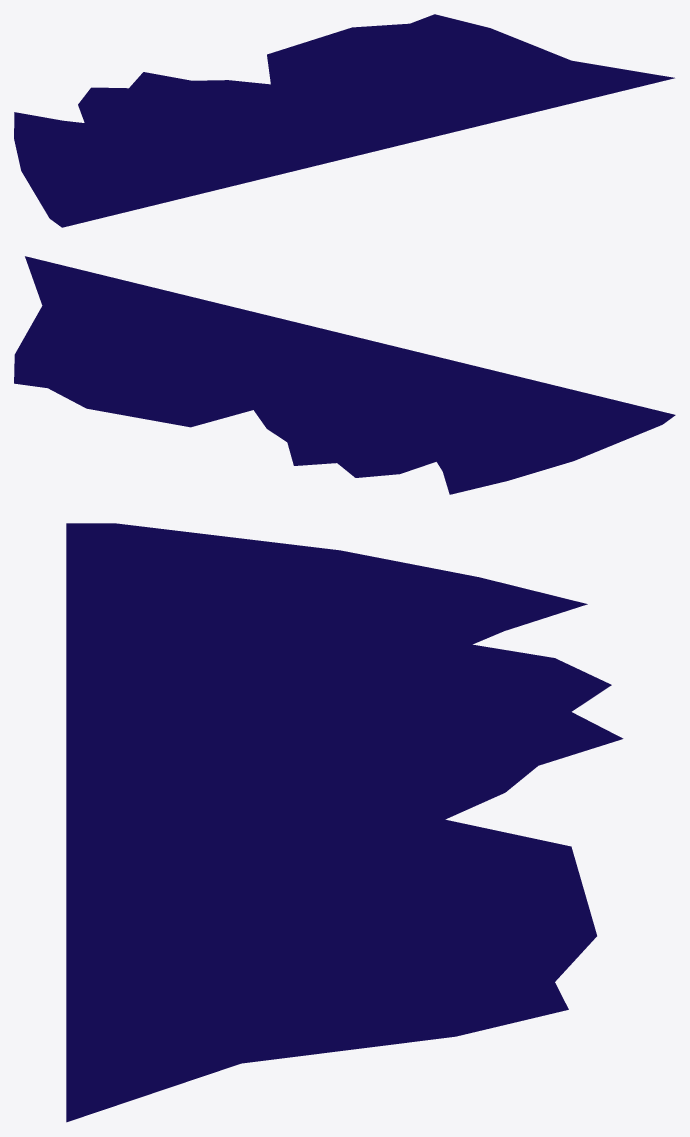
The model's file is asttop.glb.
3 renders of one model, top to bottom at view 1: azimuth 30°, elevation 25°; view 2: azimuth 150°, elevation 25°; view 3: azimuth 270°, elevation 25°, orthographic. The views are drawn at different scales.
Parts seen in each view (by area): view 1: asttop; view 2: asttop; view 3: asttop.
Boxes of the visible parts, <box> form: asttop: <box>14,14,674,227</box>; asttop: <box>14,256,675,494</box>; asttop: <box>66,523,623,1122</box>.
Size of the model in its own units: 68.7 by 0 by 27.02.
